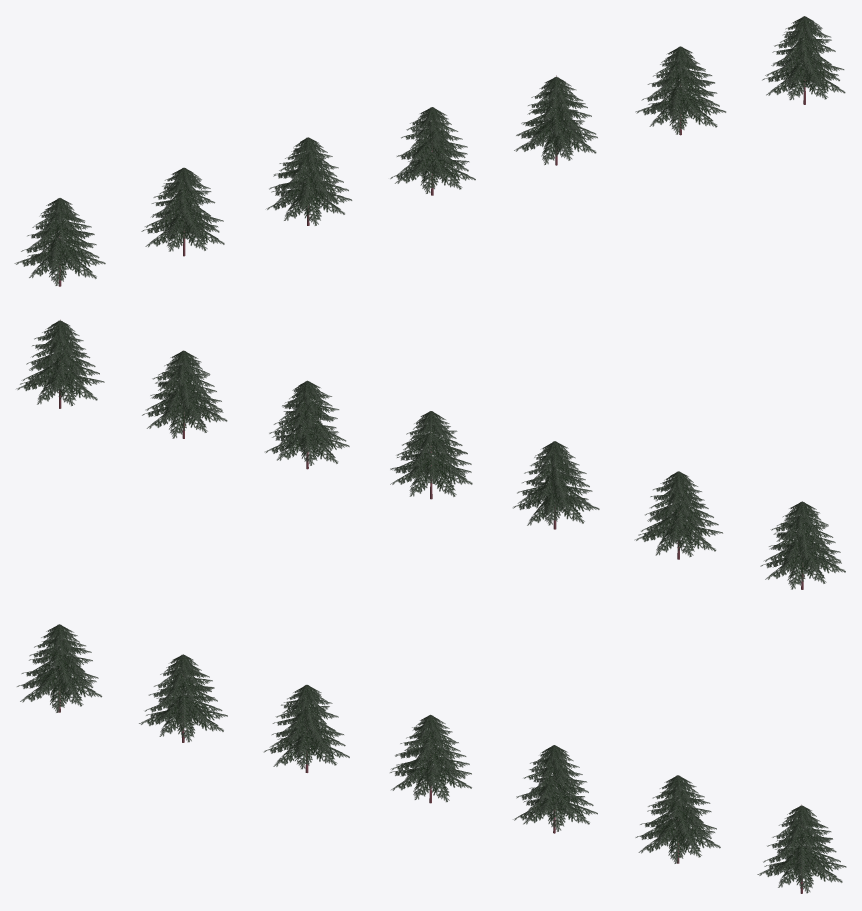
Rendered from treepine_EW.glb.
3 renders of one model, top to bottom at view 1: azimuth 30°, elevation 25°; view 2: azimuth 150°, elevation 25°; view 3: azimuth 330°, elevation 25°, orthographic.
Parts seen in each view (by area): view 1: Trees; view 2: Trees; view 3: Trees.
Part boxes in pixels (box(x1,y1,x2,y2)): Trees: box(14, 16, 845, 286); Trees: box(16, 319, 845, 589); Trees: box(17, 624, 846, 893).
Bounding box in the file's own units: 165 × 17.39 × 16.14.
Materials: 2 (1 with a texture image).
